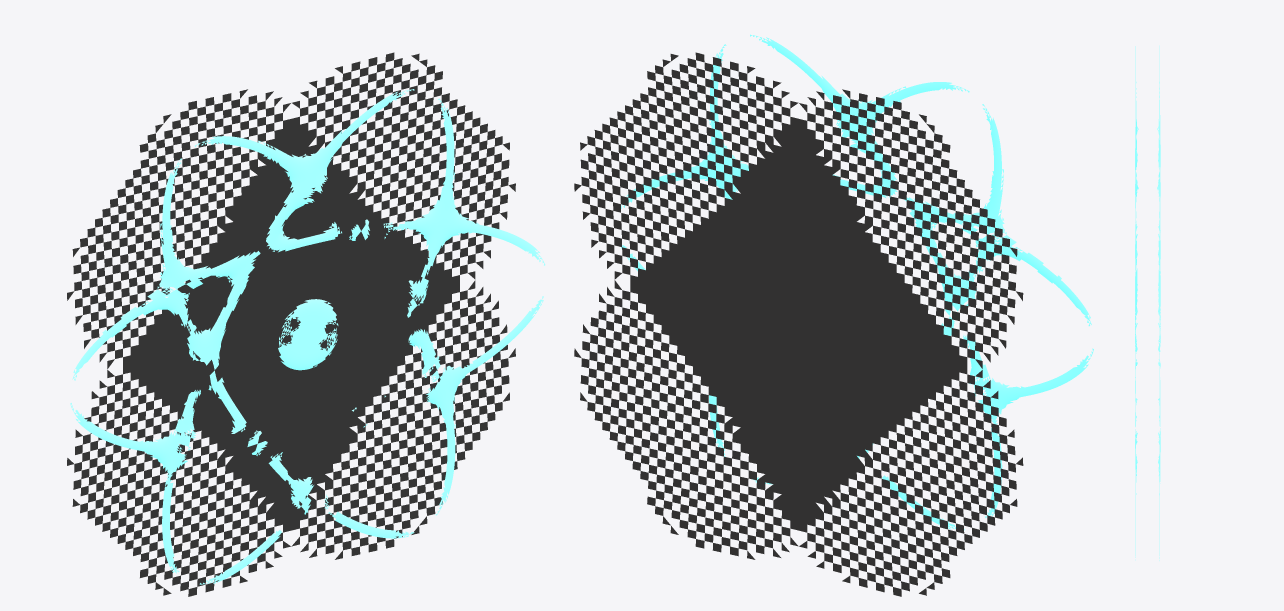
The model's file is react.glb.
The picture shows the model from 3 angles, left to right: view 1: azimuth 30°, elevation 25°; view 2: azimuth 150°, elevation 25°; view 3: azimuth 270°, elevation 25°; orthographic projection. The views are drawn at different scales.
Visible parts, largest first — view 1: back, LOGO; view 2: back, LOGO; view 3: LOGO.
Part boxes in pixels (box(x1,y1,x2,y2)): back: box(67, 52, 515, 596); LOGO: box(70, 89, 545, 584); back: box(574, 52, 1023, 596); LOGO: box(621, 34, 1093, 530); LOGO: box(1135, 45, 1160, 560).
Size of the model in its own units: 10.34 by 10.27 by 2.63.
